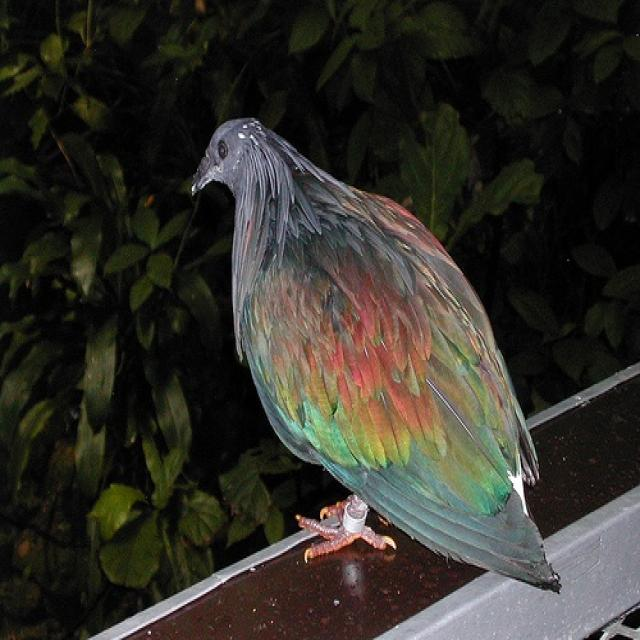bird: (187, 116, 564, 599)
